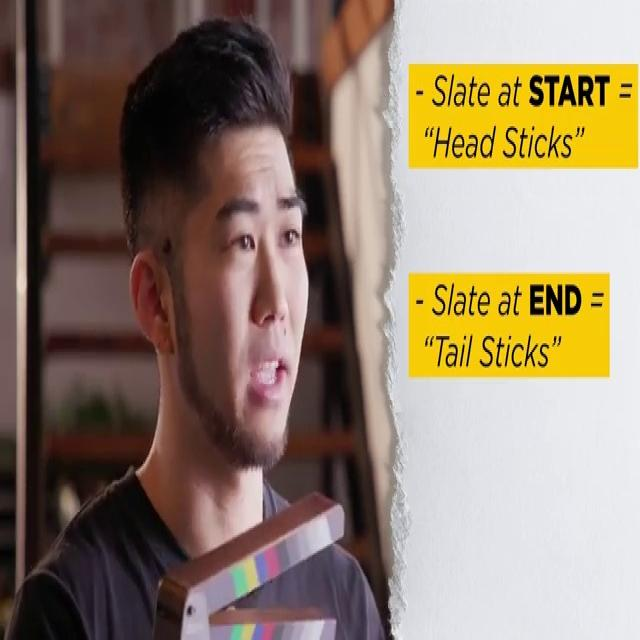Clapperboard: (147, 492, 352, 640)
